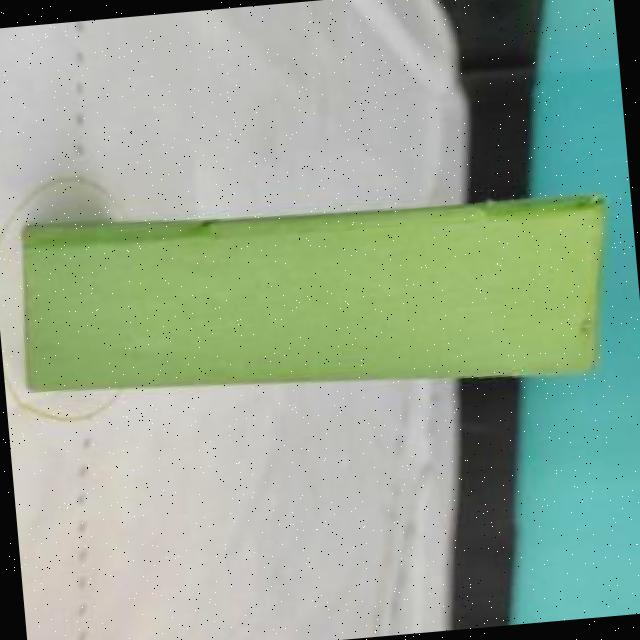greenbox: (12, 177, 625, 427)
